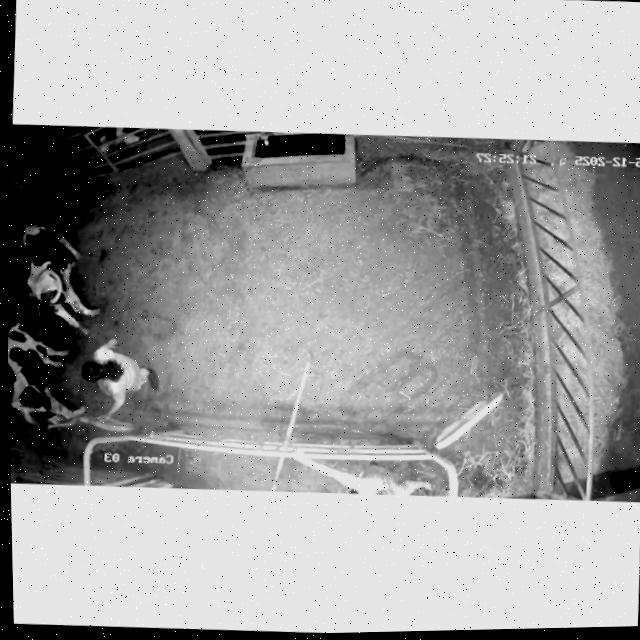stand: (9, 202, 104, 334), (7, 302, 91, 439)
